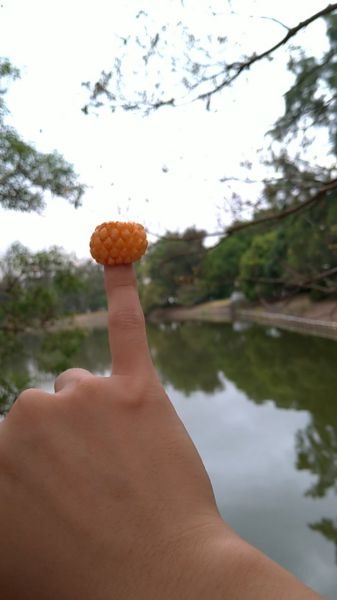eggs: (90, 221, 147, 268)
